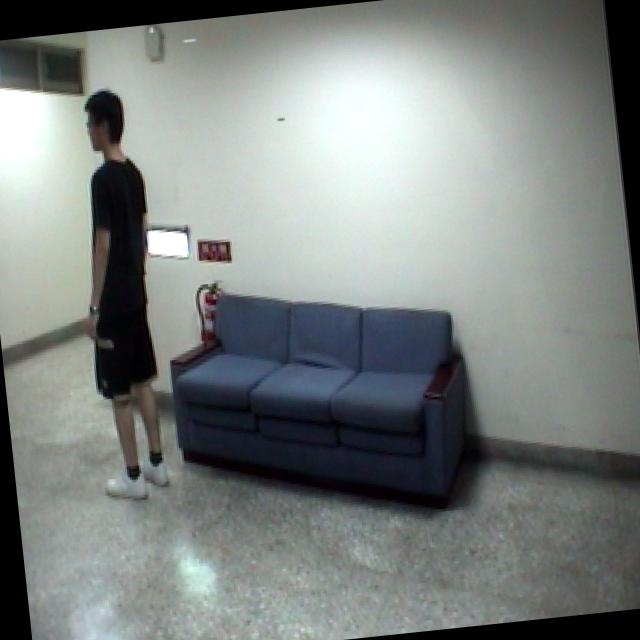stand: (54, 80, 207, 516)
